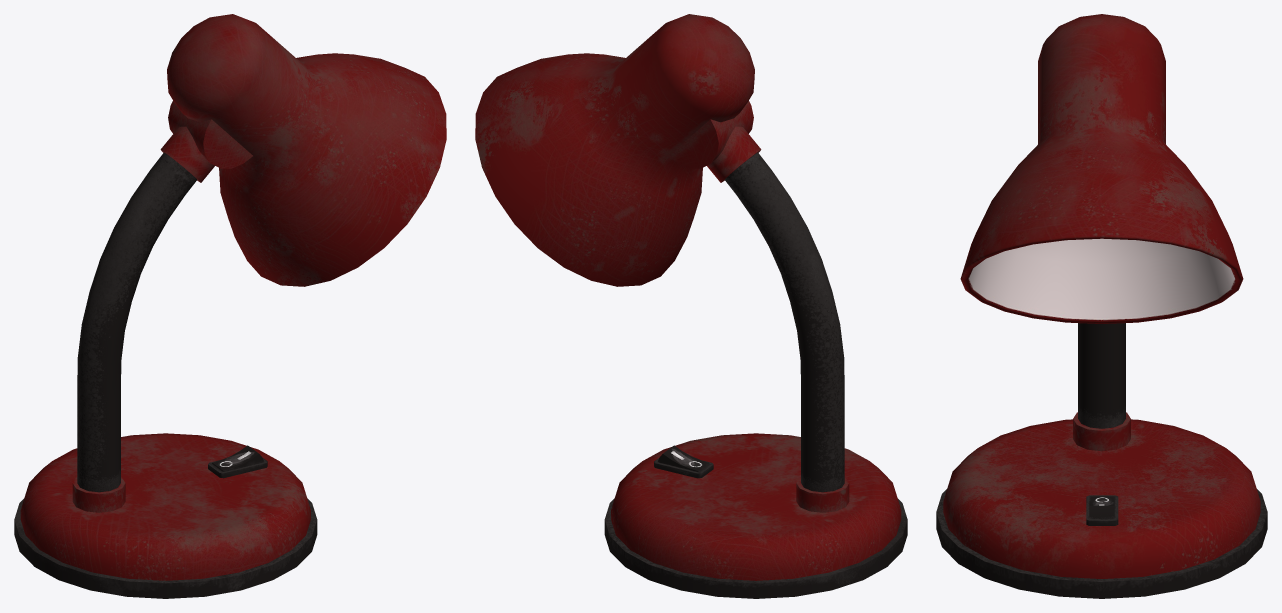
3 views of the same model, side by side, from view 1: azimuth 30°, elevation 25°; view 2: azimuth 150°, elevation 25°; view 3: azimuth 270°, elevation 25° (orthographic). The views are drawn at different scales.
Parts seen in each view (by area): view 1: Lamp; view 2: Lamp; view 3: Lamp.
Boxes of the visible parts, <box> form: Lamp: <box>14,14,446,598</box>; Lamp: <box>475,14,907,598</box>; Lamp: <box>936,14,1267,598</box>.
Bounding box in the file's own units: 28.95 × 35.34 × 19.46.
Materials: 1 (1 with a texture image).
